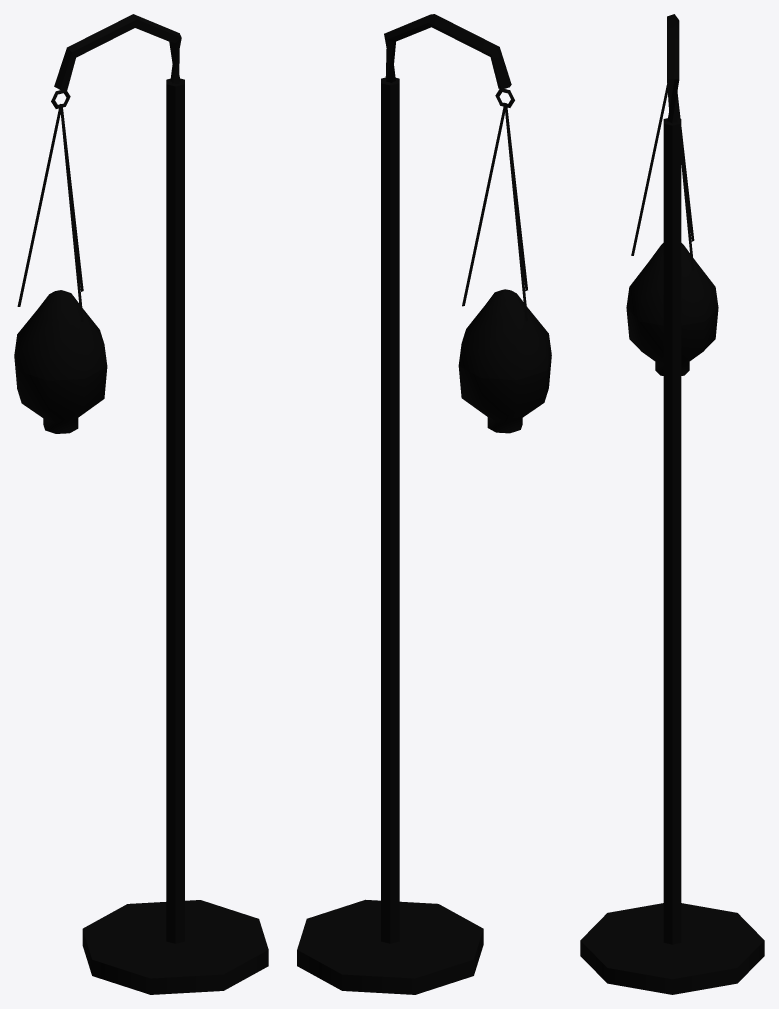
Rendered from SM_censer.fbx.
3 views of the same model, side by side, from view 1: azimuth 30°, elevation 25°; view 2: azimuth 150°, elevation 25°; view 3: azimuth 270°, elevation 25° (orthographic). The views are drawn at different scales.
Parts seen in each view (by area): view 1: censer, censer_thurible; view 2: censer, censer_thurible; view 3: censer, censer_thurible.
Part boxes in pixels (box(x1,y1,x2,y2)): censer: box(54, 14, 268, 994); censer_thurible: box(14, 90, 107, 433); censer: box(297, 14, 511, 994); censer_thurible: box(458, 89, 551, 433); censer: box(580, 14, 764, 994); censer_thurible: box(626, 83, 718, 375).
Bounding box in the file's own units: 0.46 × 1.74 × 0.32.
